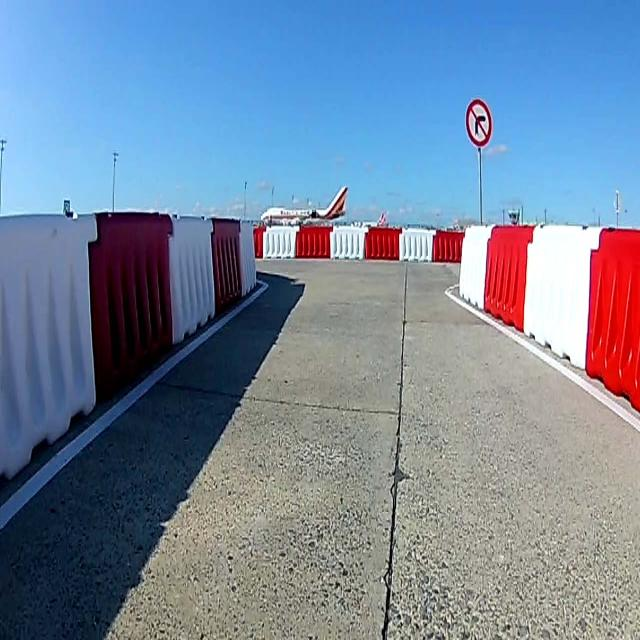sagadonulmez: (466, 99, 492, 146)
